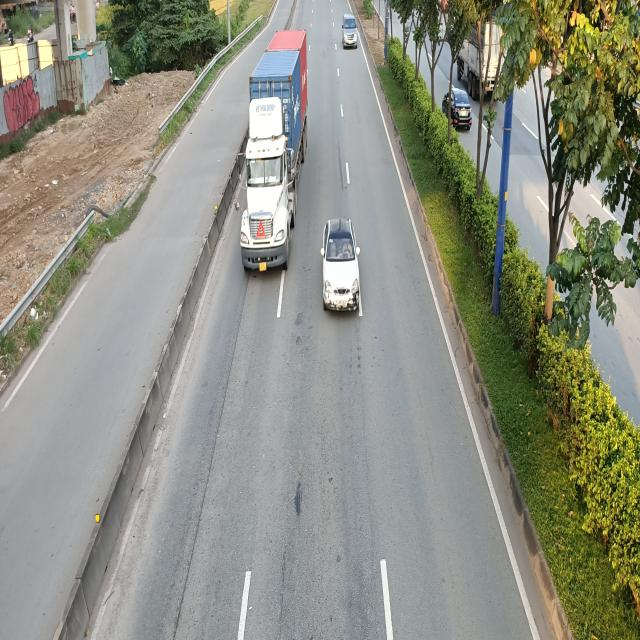car: (322, 219, 362, 317), (344, 11, 359, 46)
container: (239, 31, 309, 275)
